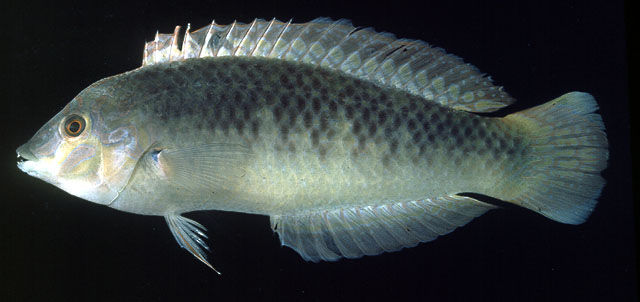fish: (15, 16, 610, 276)
